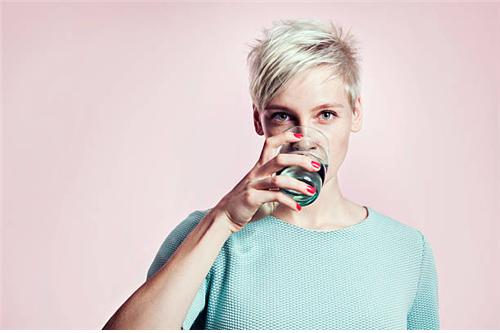alcohol: (276, 124, 331, 207)
